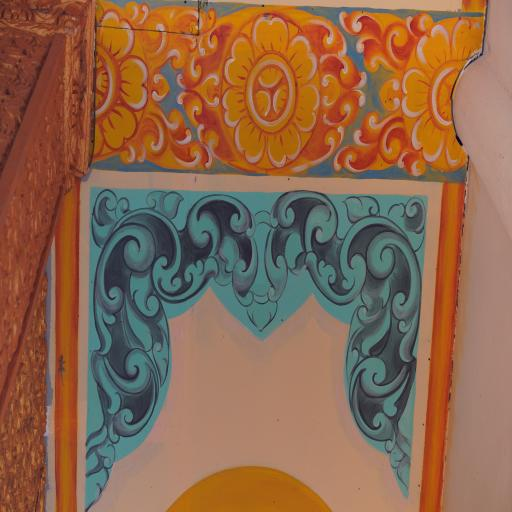hoa: (222, 14, 320, 167), (401, 15, 485, 171), (90, 10, 148, 156)
la: (85, 184, 260, 510), (260, 180, 424, 500), (307, 9, 368, 170), (174, 14, 230, 169), (338, 3, 434, 78), (334, 110, 432, 181), (128, 102, 214, 174), (128, 2, 204, 66)
